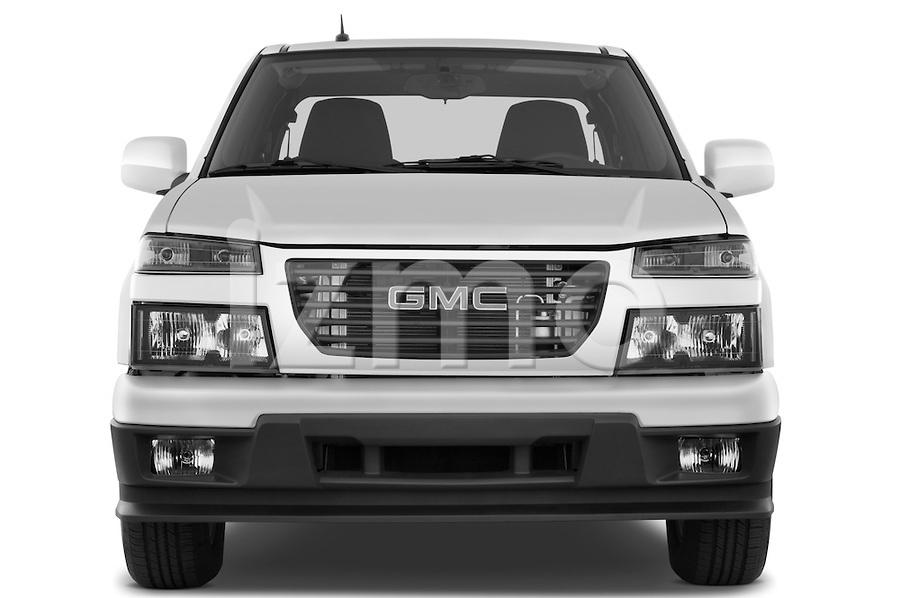car: (105, 10, 788, 596)
